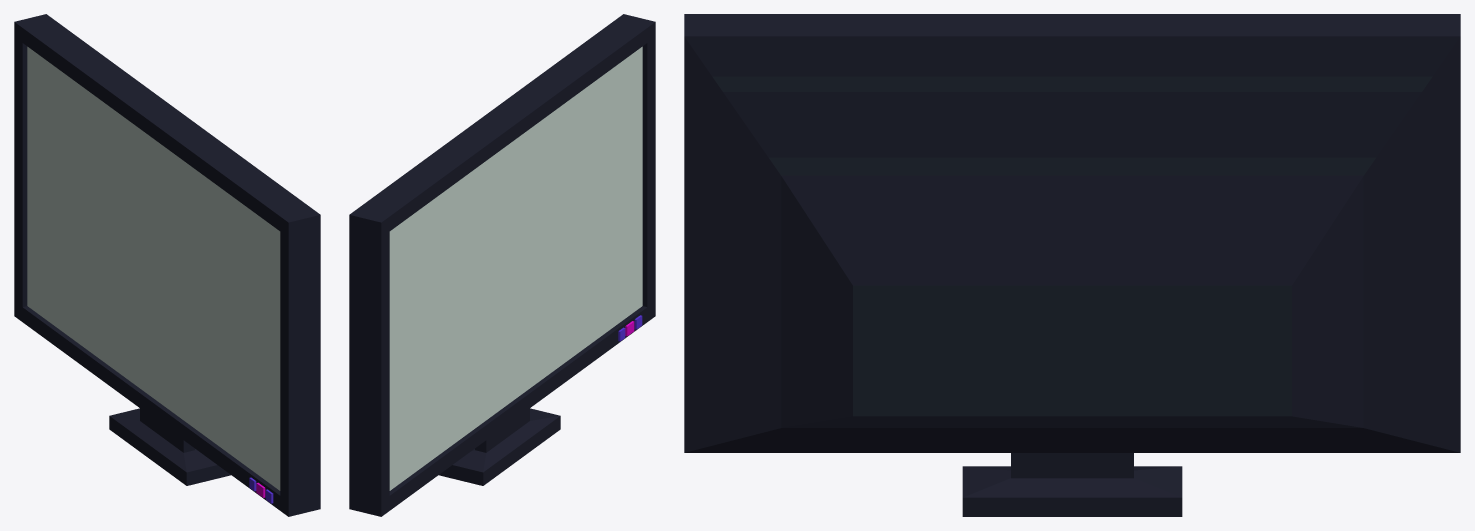
File: Interior_TV_Widescreen.fbx
3 views of the same model, side by side, from view 1: azimuth 30°, elevation 25°; view 2: azimuth 150°, elevation 25°; view 3: azimuth 270°, elevation 25° (orthographic). The views are drawn at different scales.
Visible parts, largest first — view 1: Cube.248; view 2: Cube.248; view 3: Cube.248.
Boxes of the visible parts, x1,y1,x2,y2 form: Cube.248: (14, 14, 320, 516); Cube.248: (349, 14, 655, 516); Cube.248: (684, 14, 1460, 516).
Bounding box in the file's own units: 17.32 × 92.88 × 138.
